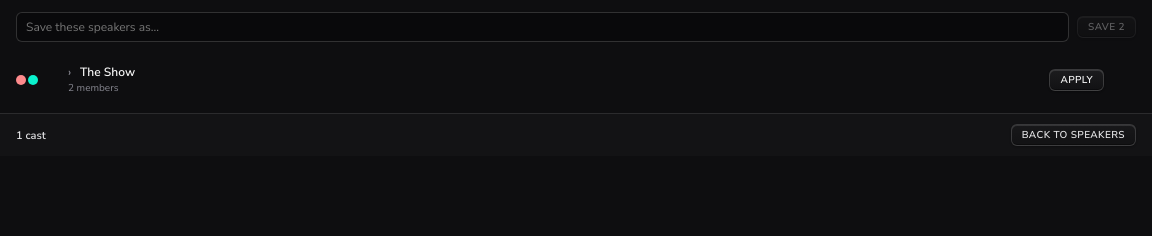
Scenario: faces from the footage › labels the control Replace once a face is set
Click the button with aria-label "Members of The Show": {"x": 108, "y": 72} [68,64,1039,95]
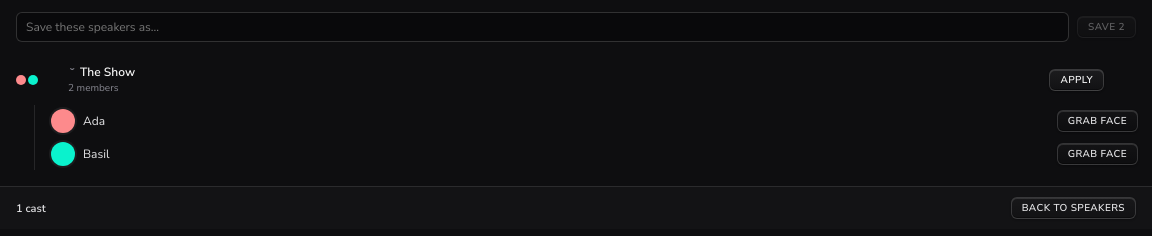
Click the button "Grab face" in the row of "Ada": {"x": 1097, "y": 121} [1057,110,1138,132]
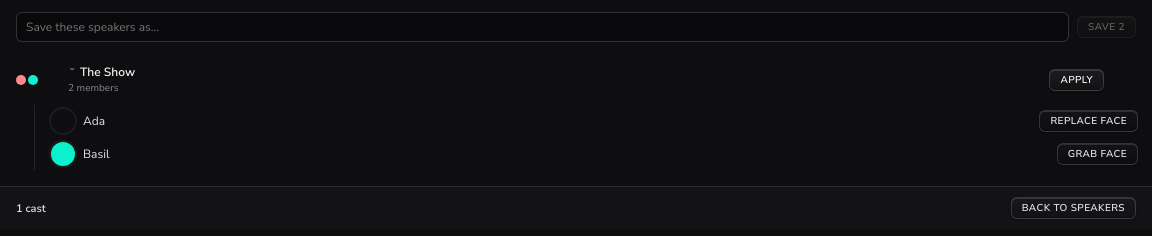
Check: the button "Replace face" is shown, box [1039,110,1138,132]
